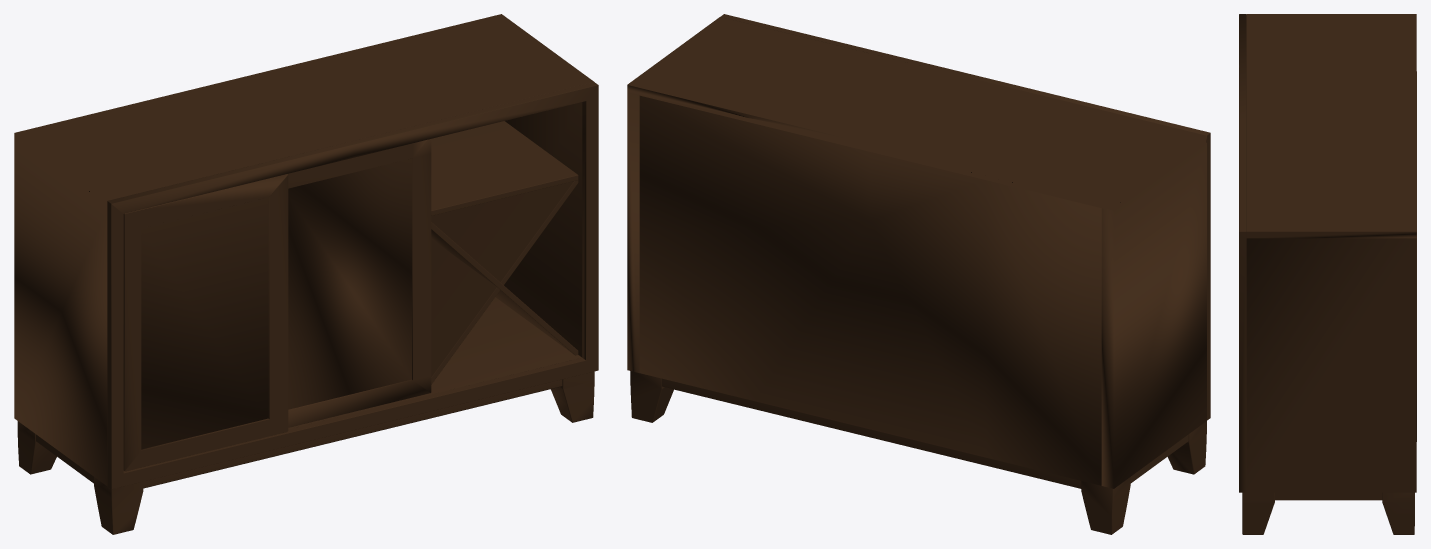
The picture shows the model from 3 angles, left to right: view 1: azimuth 30°, elevation 25°; view 2: azimuth 150°, elevation 25°; view 3: azimuth 270°, elevation 25°; orthographic projection. The views are drawn at different scales.
Parts seen in each view (by area): view 1: "$AJJGEMJAGCBAAAAAICBAAAAAAAAAPBILHLCC"; view 2: "$AJJGEMJAGCBAAAAAICBAAAAAAAAAPBILHLCC"; view 3: "$AJJGEMJAGCBAAAAAICBAAAAAAAAAPBILHLCC".
Boxes of the visible parts, x1,y1,x2,y2 form: "$AJJGEMJAGCBAAAAAICBAAAAAAAAAPBILHLCC": [14, 14, 598, 534]; "$AJJGEMJAGCBAAAAAICBAAAAAAAAAPBILHLCC": [627, 14, 1210, 534]; "$AJJGEMJAGCBAAAAAICBAAAAAAAAAPBILHLCC": [1239, 14, 1416, 534].
Size of the model in its own units: 1.4 by 0.914 by 0.4823.
Materials: 1 (1 with a texture image).
